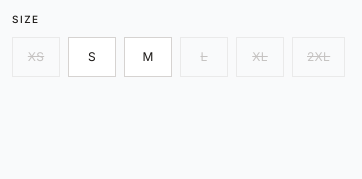
it: VariantPicker — colour reveal › resets colours shown when size changes
This screenshot has width=362, height=179.
Step 1. Click the button "S" → (92, 57), box [68, 37, 116, 77]
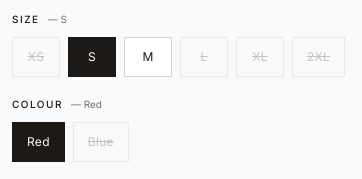
Step 2. Click the button "M" → (148, 57), box [124, 37, 172, 77]
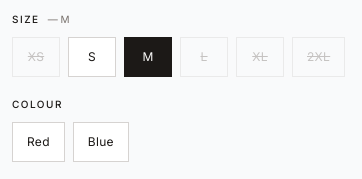
Now the button "Red" is enabled, box [12, 122, 65, 162]
Now the button "Blue" is enabled, box [73, 122, 129, 162]
